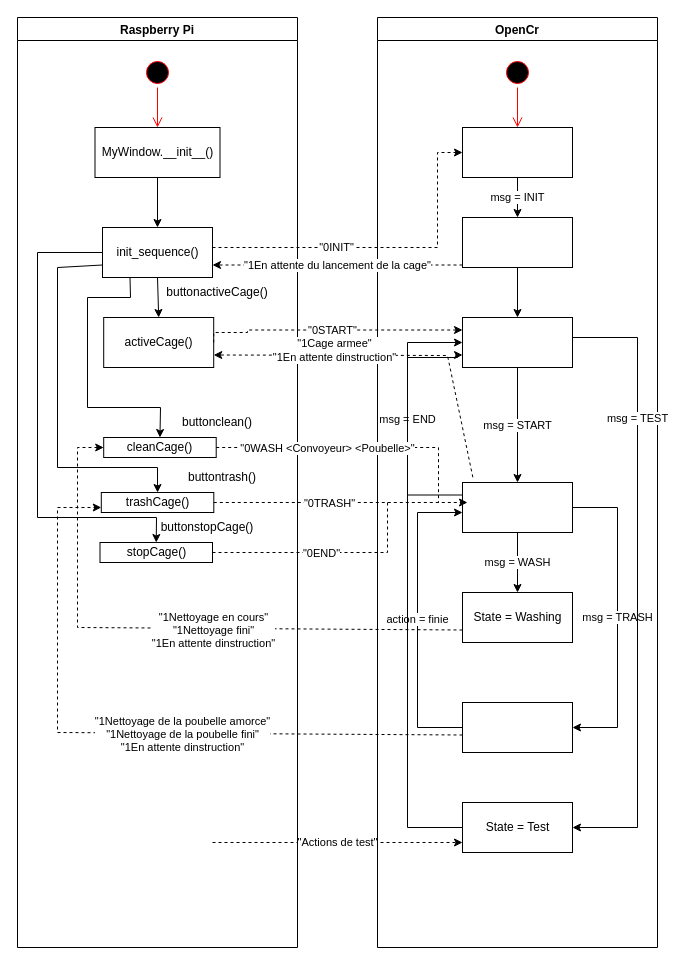
Image size: 685x965. Some labels were removed from this diagram. The box of each missing label's shape, as (x1, y1, x2, y2) in pixels:
motor_init comm_init: (462, 216, 572, 268)
State = Init: (462, 126, 572, 178)
State = Off: (462, 316, 572, 368)
State = Trash: (462, 702, 572, 752)
State = Wait: (462, 482, 572, 532)
